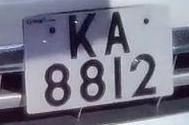1: (106, 53, 130, 103)
2: (127, 49, 161, 103)
8: (39, 60, 77, 110), (72, 57, 112, 104)
A: (102, 4, 133, 62)
K: (61, 15, 102, 61)
